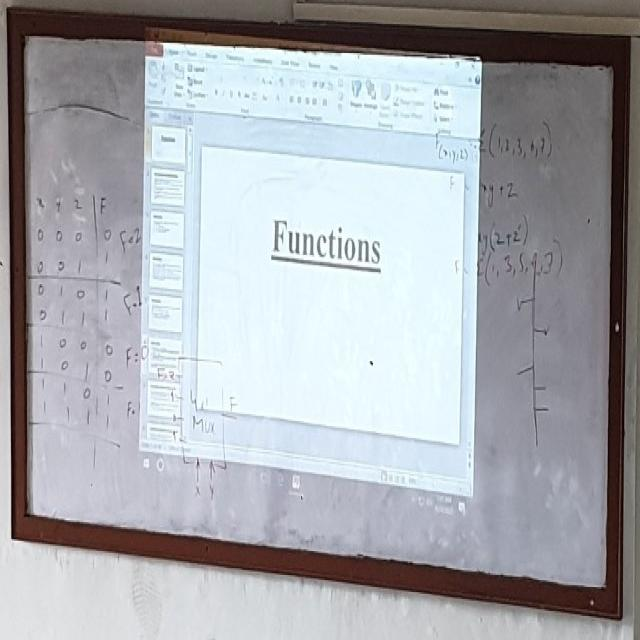Slide: (135, 29, 483, 533)
White-board: (15, 23, 622, 610)
